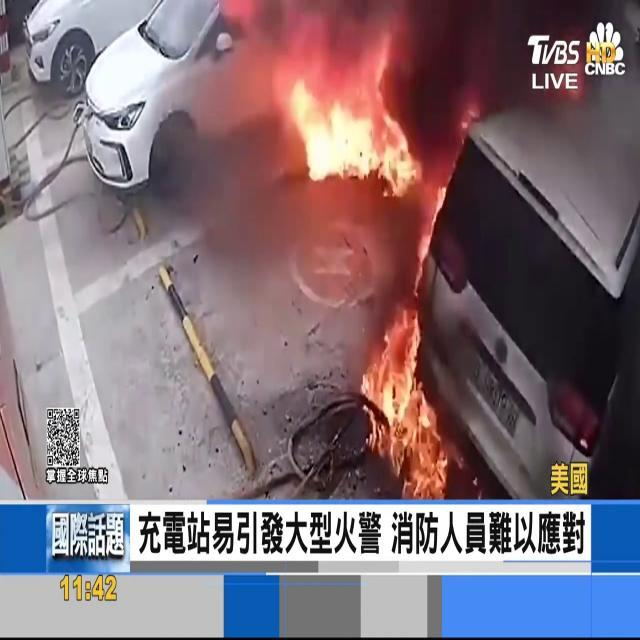Fire: (271, 48, 429, 197), (356, 299, 454, 496), (411, 183, 450, 285)
